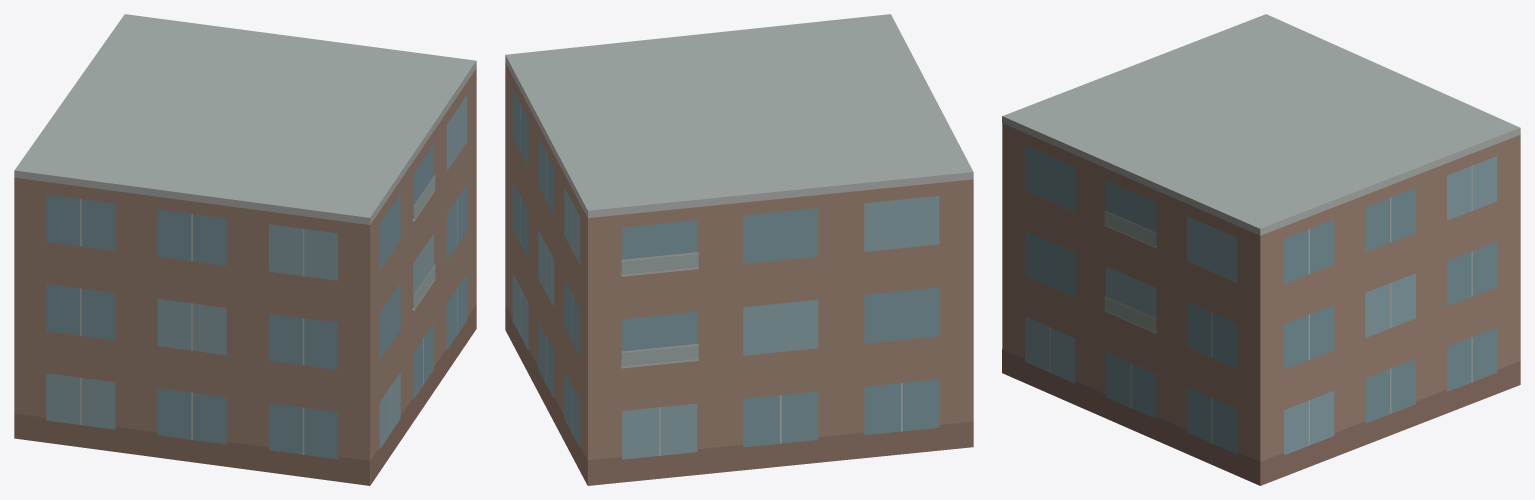
Rendered from survey-upis-32689390.glb.
The picture shows the model from 3 angles, left to right: view 1: azimuth 30°, elevation 25°; view 2: azimuth 150°, elevation 25°; view 3: azimuth 270°, elevation 25°; orthographic projection. The views are drawn at different scales.
Parts seen in each view (by area): view 1: survey-upis-32689390.tmp; view 2: survey-upis-32689390.tmp; view 3: survey-upis-32689390.tmp.
Part boxes in pixels (x1,y1,x2,y2): survey-upis-32689390.tmp: [14, 14, 476, 485]; survey-upis-32689390.tmp: [505, 14, 973, 485]; survey-upis-32689390.tmp: [1002, 14, 1520, 485].
Bounding box in the file's own units: 16.42 × 9.15 × 16.74.
